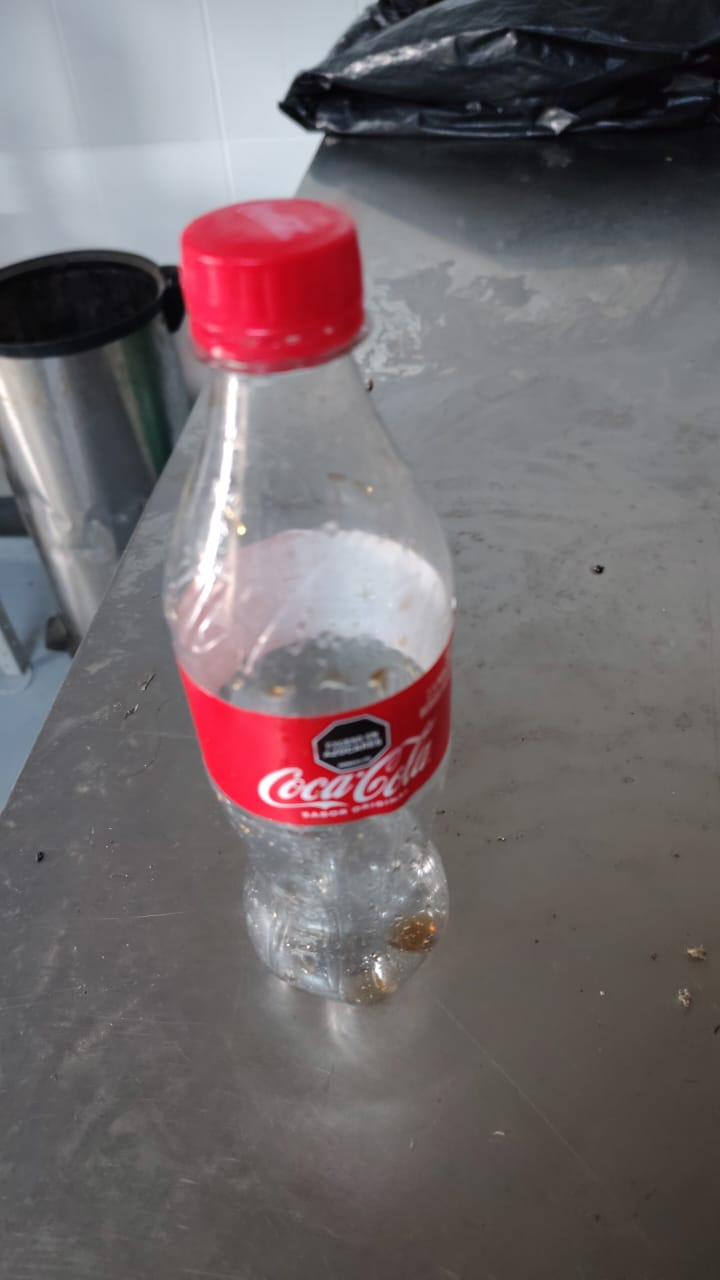Plastico: (161, 193, 459, 1007)
